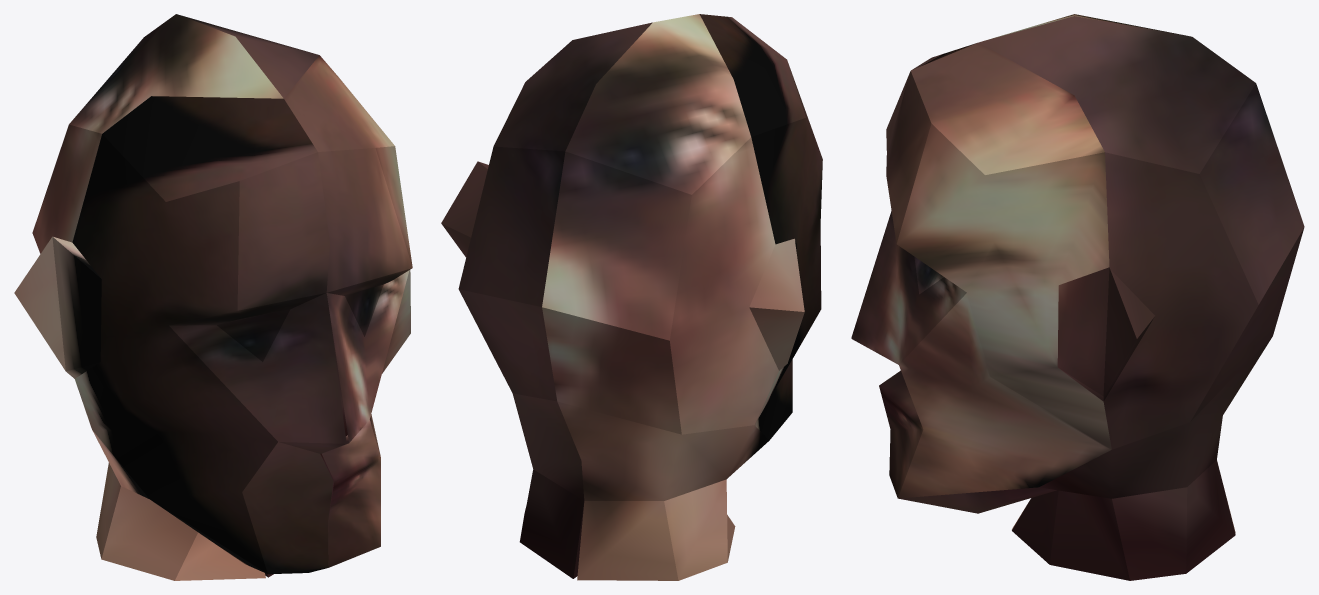
The model's file is testface.FBX.
The picture shows the model from 3 angles, left to right: view 1: azimuth 30°, elevation 25°; view 2: azimuth 150°, elevation 25°; view 3: azimuth 270°, elevation 25°; orthographic projection. The views are drawn at different scales.
Visible parts, largest first — view 1: Box001, Box002; view 2: Box001, Box002; view 3: Box002, Box001.
Part boxes in pixels (box(x1,y1,x2,y2)): Box001: box(14, 14, 346, 580); Box002: box(177, 14, 412, 577); Box001: box(542, 14, 822, 580); Box002: box(441, 22, 652, 578); Box002: box(851, 16, 1304, 580); Box001: box(851, 14, 1235, 532).
Bounding box in the file's own units: 0.3376 × 0.4438 × 0.3517.
Materials: 1 (1 with a texture image).
